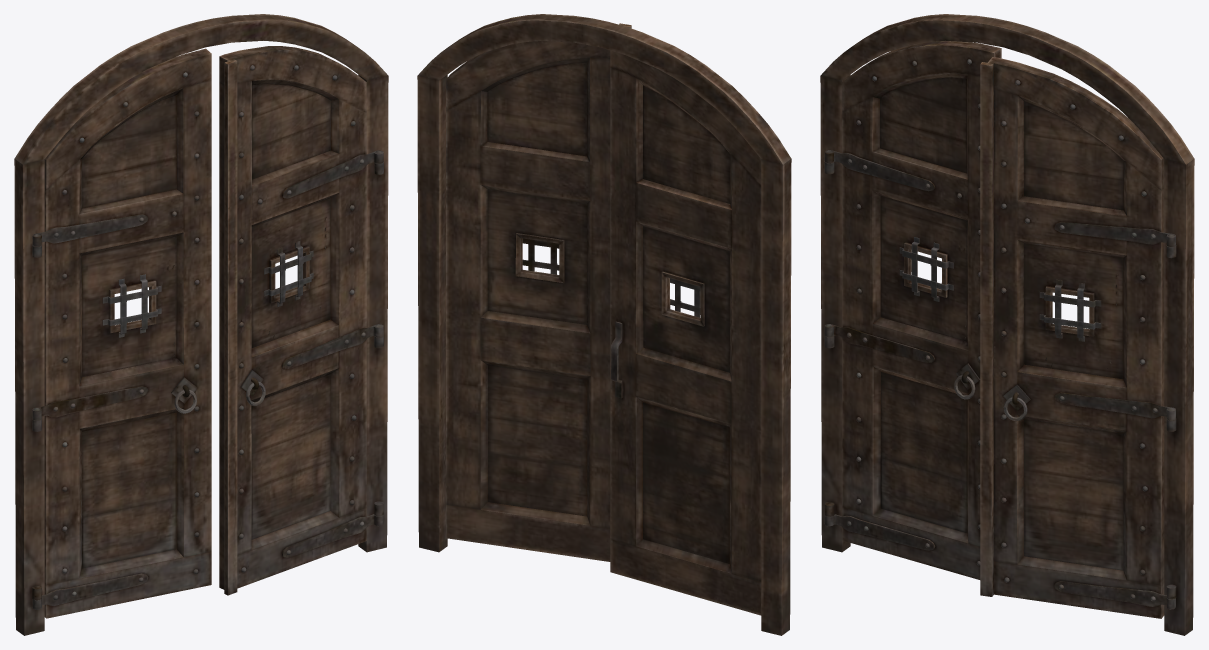
File: CafeDoor.glb
3 renders of one model, left to right at view 1: azimuth 30°, elevation 25°; view 2: azimuth 150°, elevation 25°; view 3: azimuth 330°, elevation 25°, orthographic.
Size of the model in its own units: 2.01 by 2.96 by 0.2963.
1 material, 1 textured.
